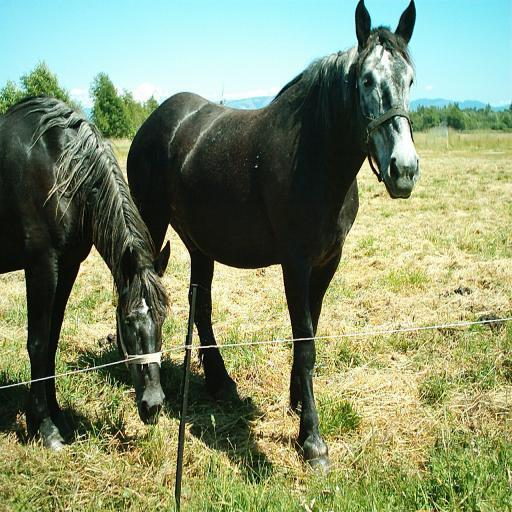horse: (123, 0, 417, 474), (0, 92, 171, 450)
